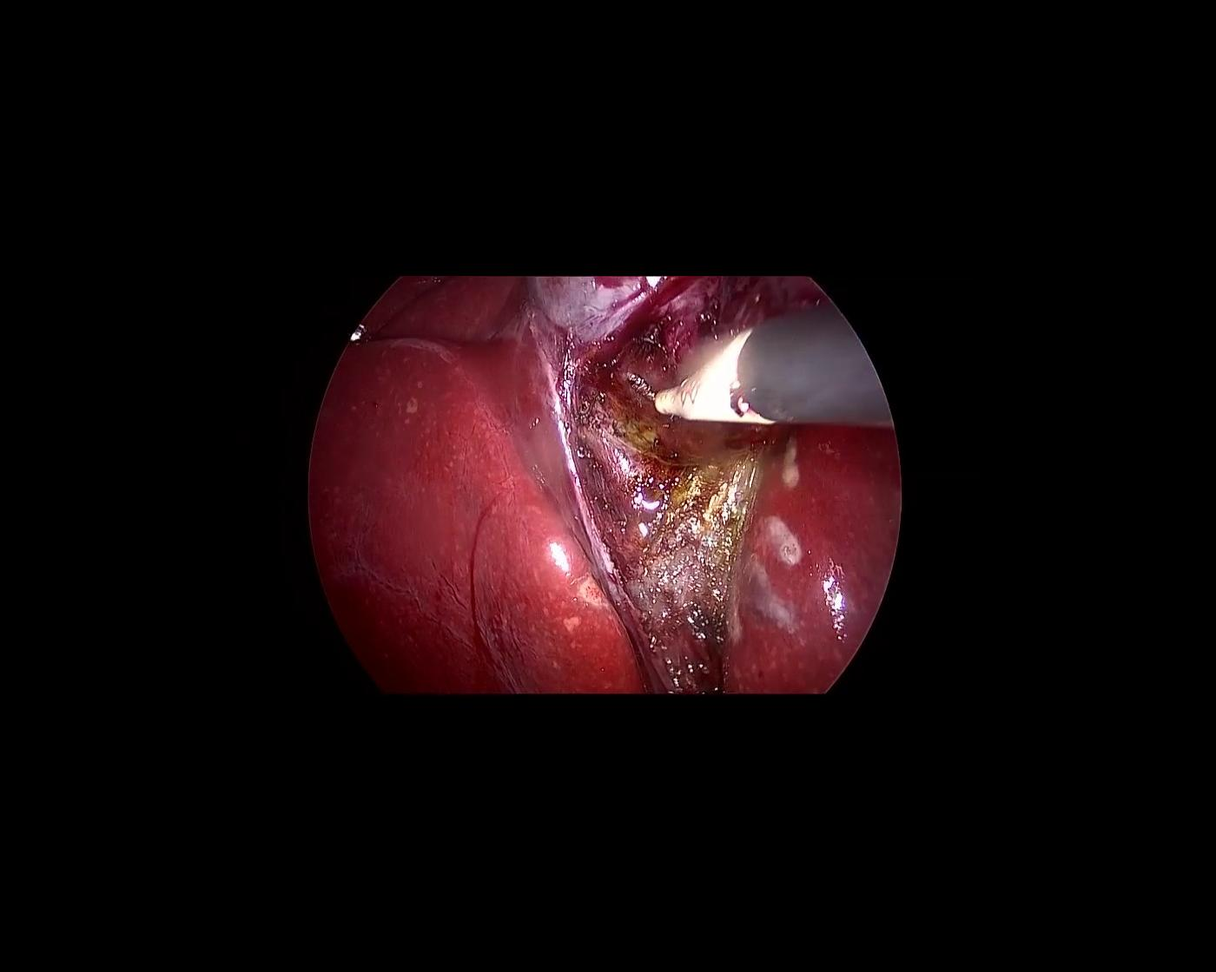Cautery: (620, 304, 893, 435)
Liver: (252, 248, 645, 767), (708, 409, 917, 719)
